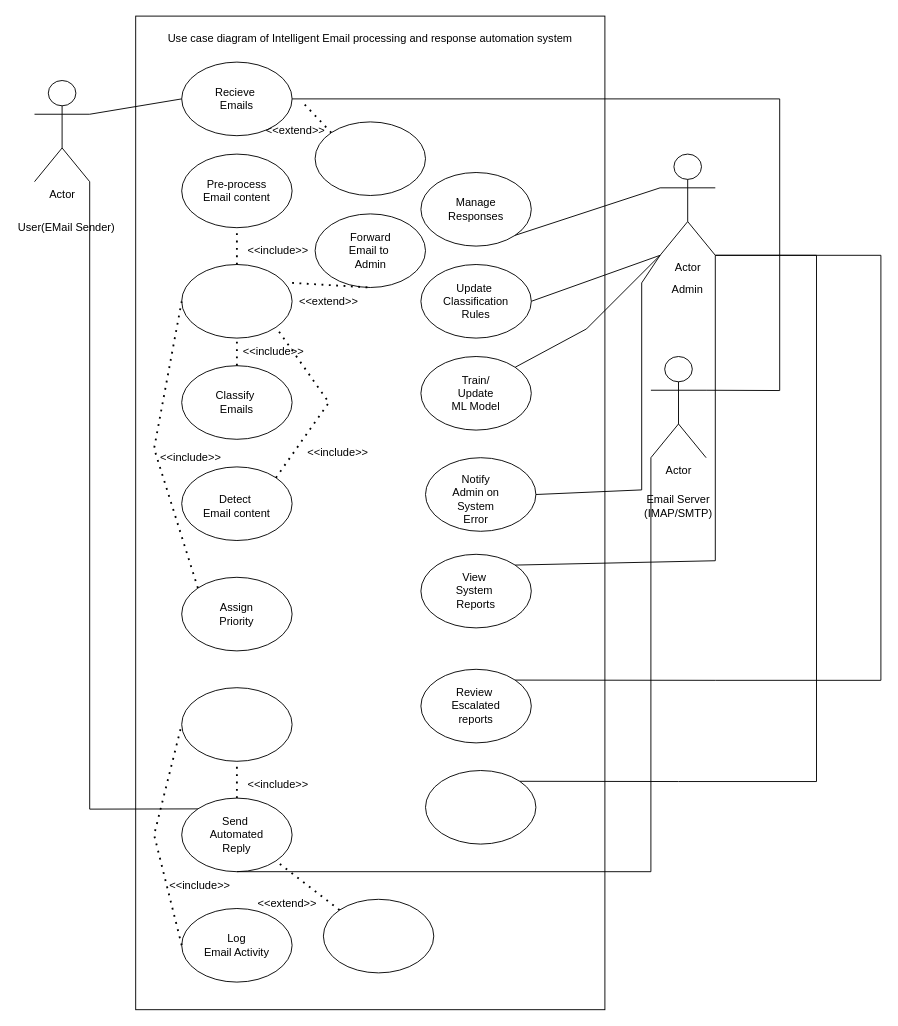
Image size: 898x1026. Some labels were removed from this diagram. The shapes that lost their labels are listed below. From the top down, each one's box as (x1, y1, x2, y2) in pixels, then its label:
(314, 121, 426, 196): Handle Email Fetch Failure
(181, 264, 292, 338): Analyse Email content
(181, 687, 292, 761): Generate Automated Response
(425, 770, 536, 844): Configure Email Server
(322, 898, 434, 973): Retry Email Delivery
